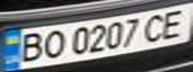0: (66, 25, 90, 56), (106, 18, 127, 51)
2: (87, 21, 109, 54)
7: (118, 16, 145, 47)
B: (12, 30, 48, 64)
C: (139, 11, 172, 43)
E: (154, 7, 193, 39)
O: (36, 28, 69, 60)
